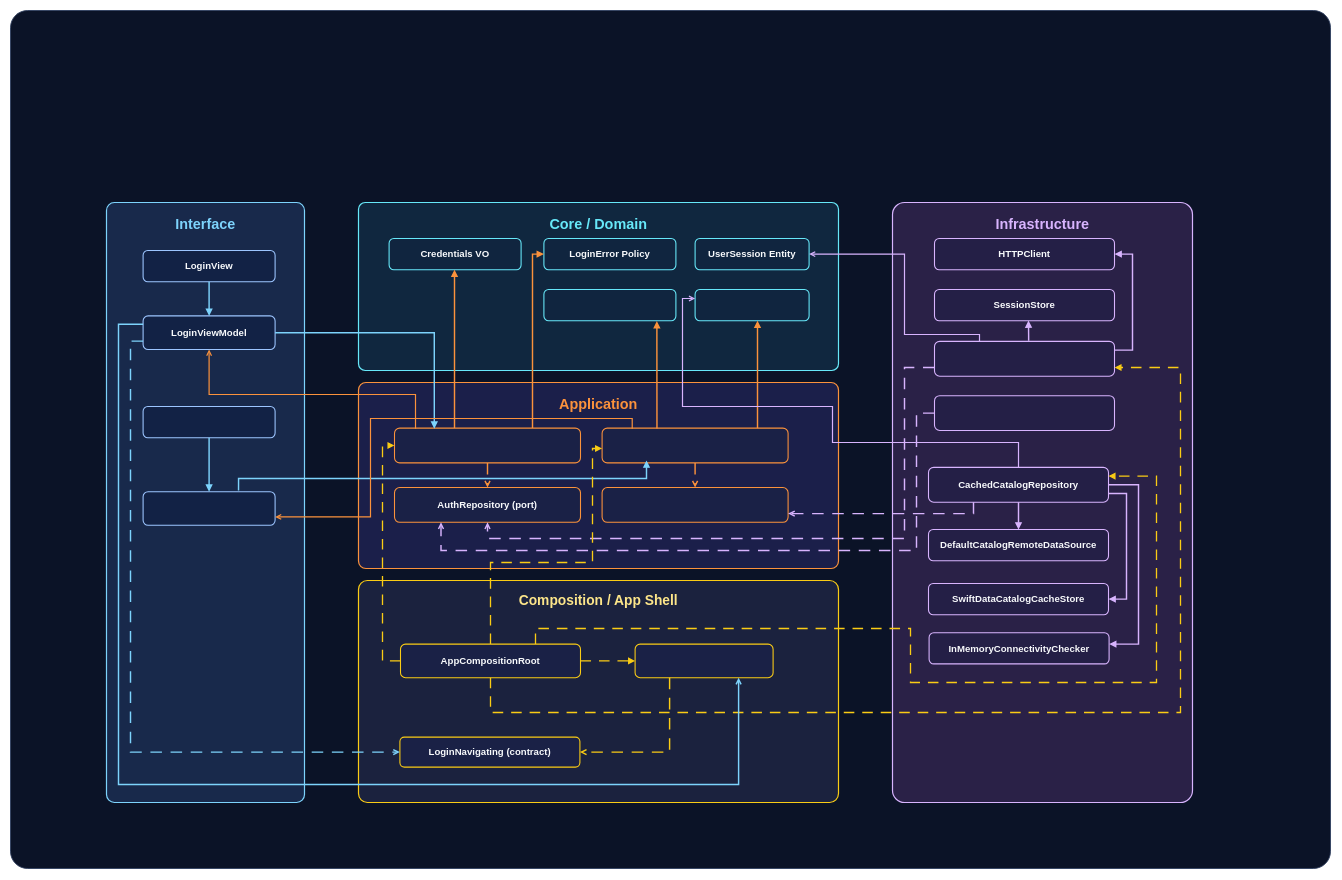
Some shapes in this 1342 by 880 pixel diagram are drawn without their labels. Here are the shapes that lost their labels. From the top down, the centre of each, then its label:
pixel 609 305: CatalogError Policy
pixel 751 305: Product Entity
pixel 1024 358: AuthHTTPRepository
pixel 208 422: CatalogView
pixel 1024 413: InMemoryAuthRepository
pixel 487 445: AuthenticateUserUseCase
pixel 694 445: LoadCatalogUseCase
pixel 208 508: CatalogViewModel
pixel 694 505: CatalogRepository (port)
pixel 703 660: NavigationStore
